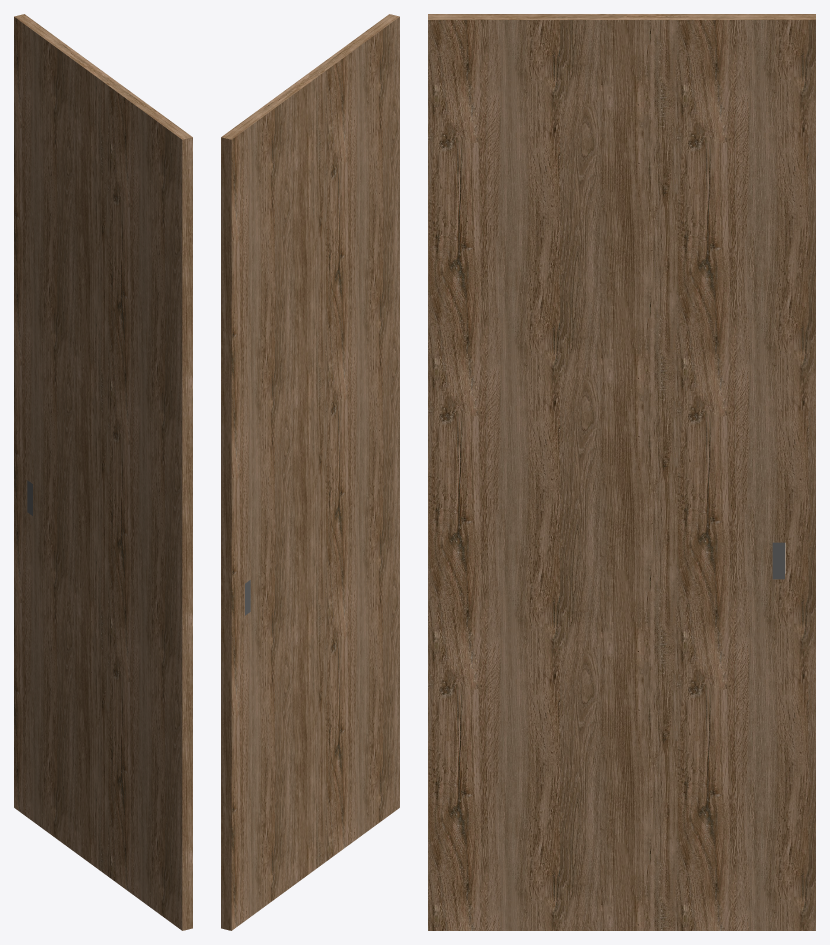
File: CubeHouse_1_door_2.fbx
The picture shows the model from 3 angles, left to right: view 1: azimuth 30°, elevation 25°; view 2: azimuth 150°, elevation 25°; view 3: azimuth 270°, elevation 25°; orthographic projection. The views are drawn at different scales.
Parts seen in each view (by area): view 1: door_2; view 2: door_2; view 3: door_2.
Boxes of the visible parts, x1,y1,x2,y2 form: door_2: (14, 14, 192, 930); door_2: (221, 14, 399, 930); door_2: (428, 14, 815, 930).
Size of the model in its own units: 0.0274 by 1.97 by 0.76.
Materials: 2 (1 with a texture image).
